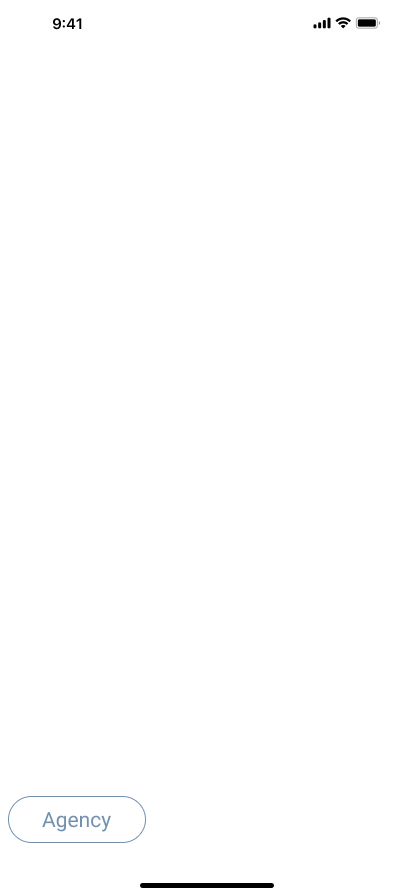Buttons: (8, 796, 154, 843)
Home Indicator: (0, 862, 414, 896)
Status Bar: (0, 0, 414, 44)
